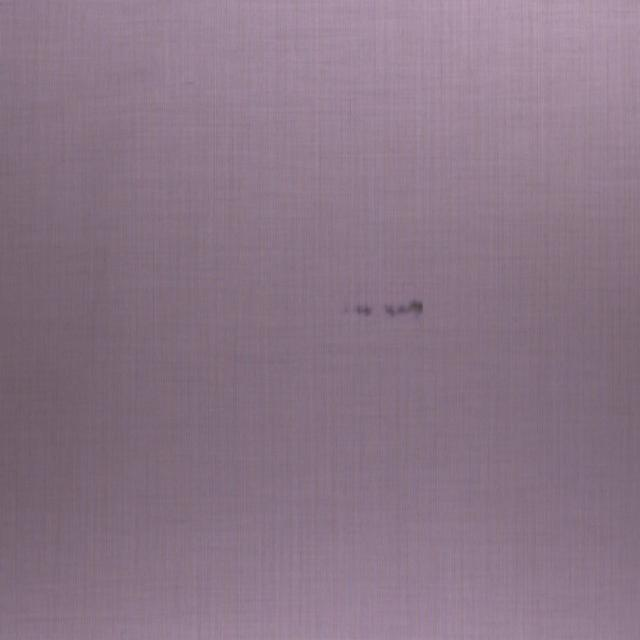dirty: (344, 300, 424, 319)
